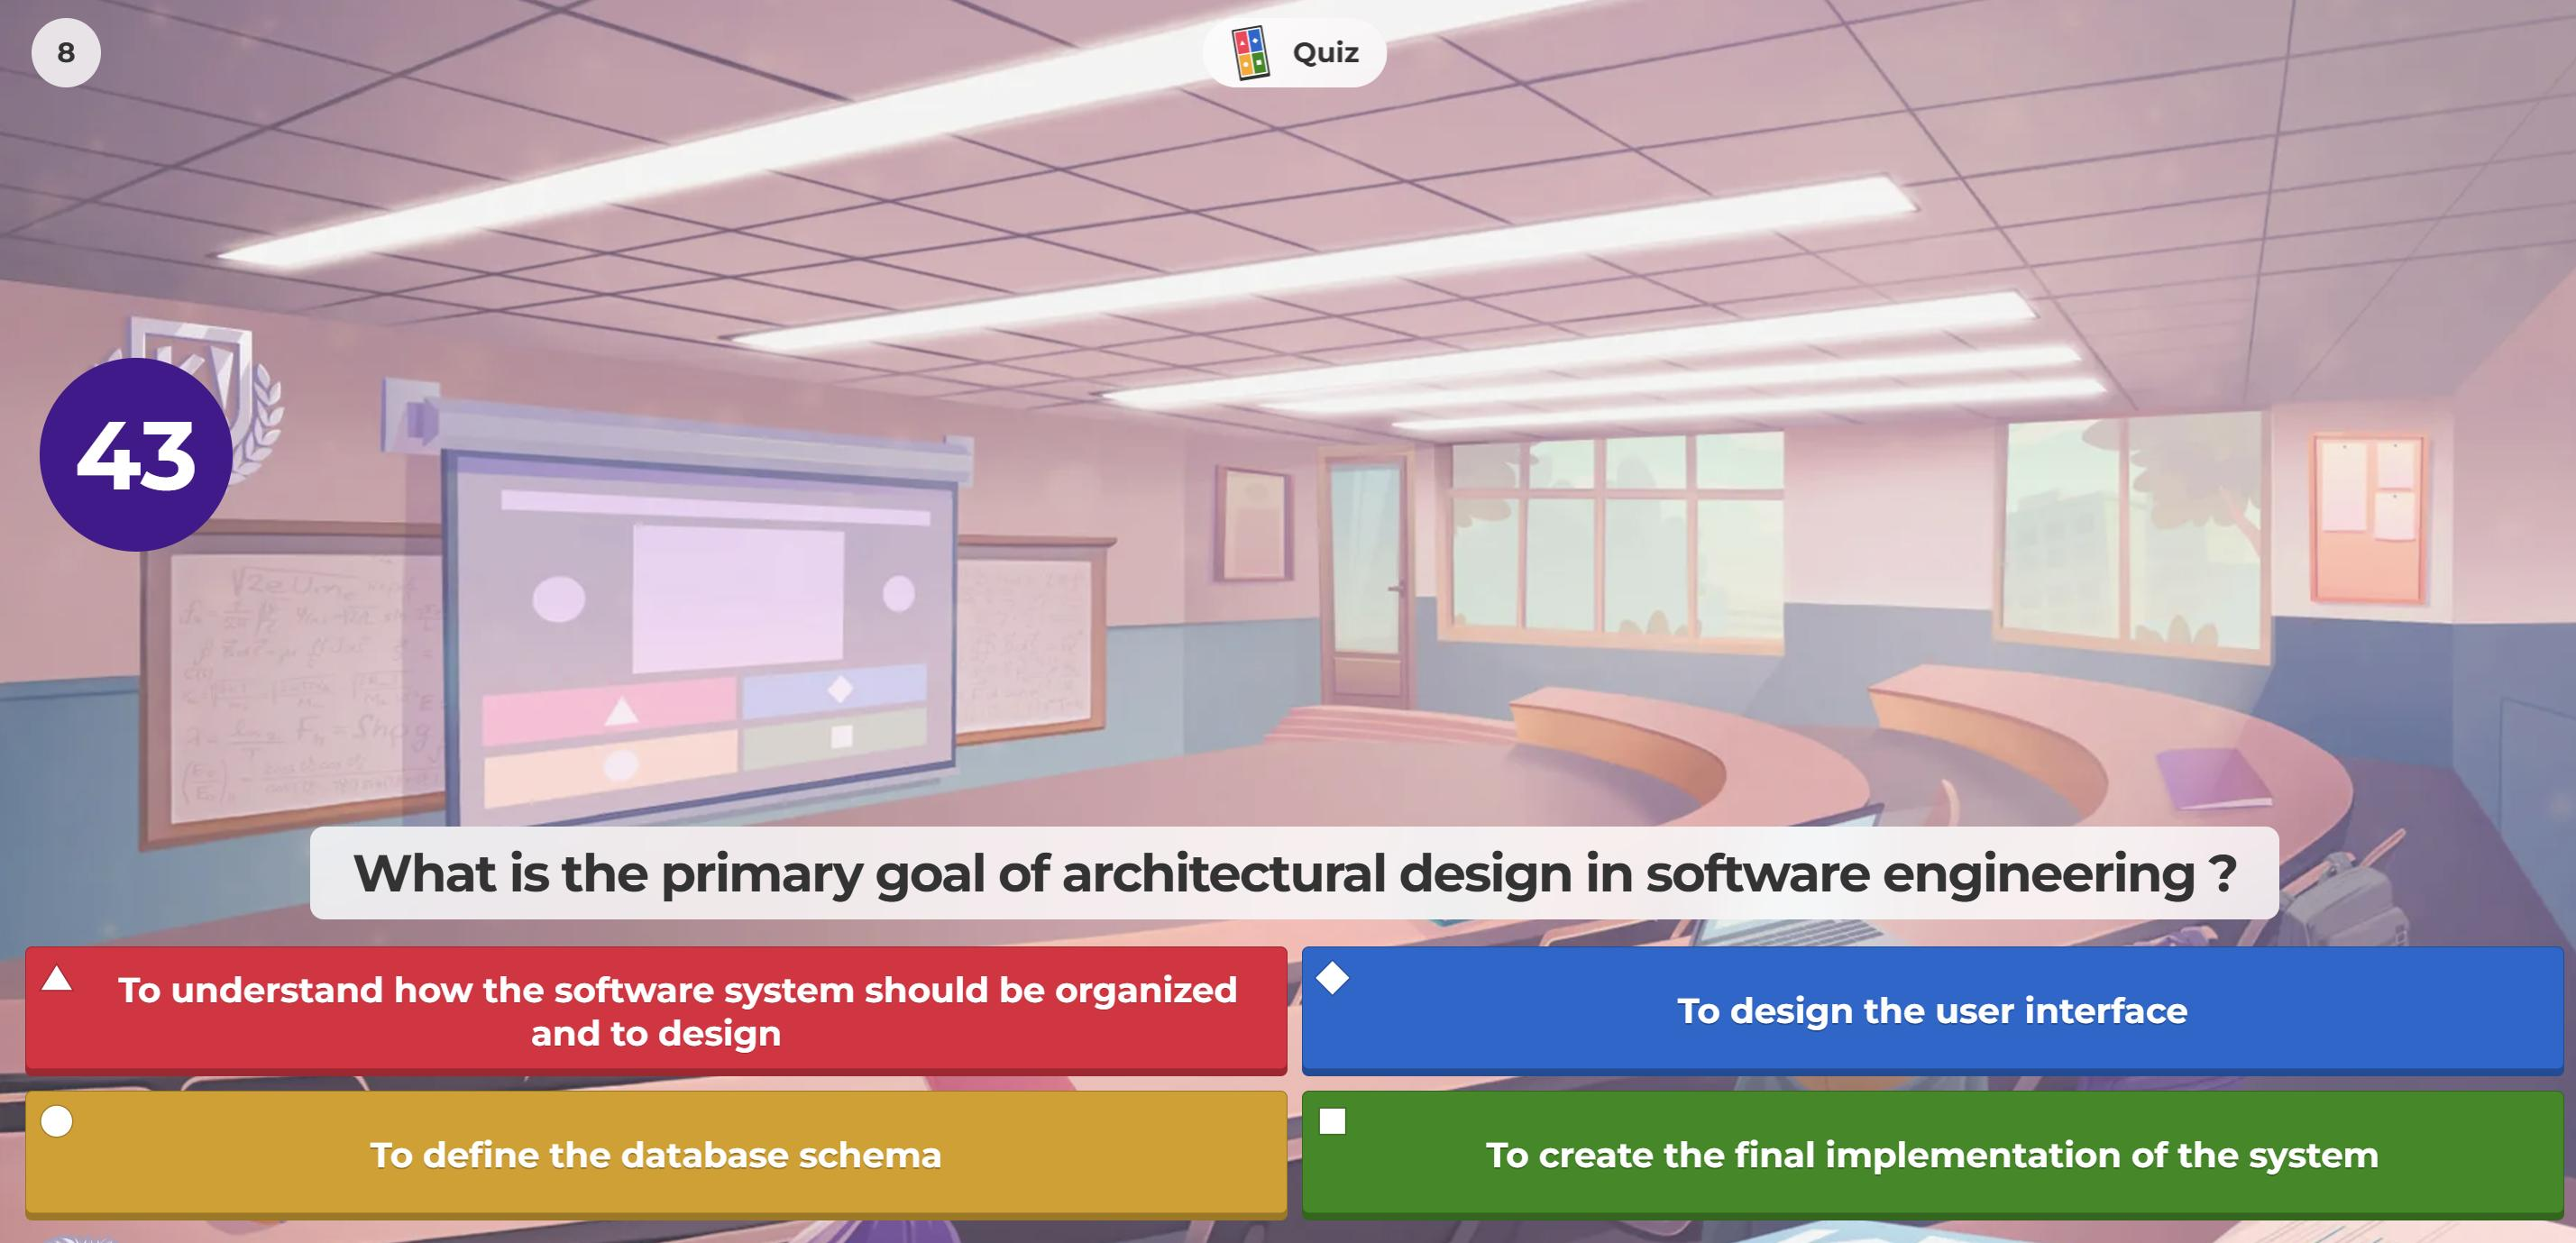answer_blue: (1304, 952, 2560, 1067)
answer_green: (1303, 1099, 2558, 1210)
answer_red: (30, 949, 1281, 1067)
answer_yellow: (26, 1097, 1288, 1210)
question_box: (317, 834, 2279, 915)
